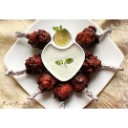chicken_lollipop: (77, 22, 113, 48), (11, 25, 51, 48), (83, 54, 126, 75), (71, 75, 101, 101), (6, 56, 43, 77), (29, 72, 53, 104), (52, 79, 74, 111)
